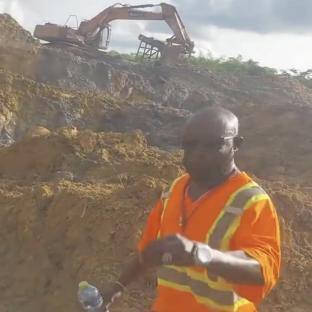ExcavationMachinery: (31, 2, 212, 65)
Person: (70, 105, 293, 312)
ProcessingEquipment: (131, 31, 196, 68)
